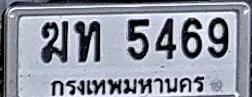4: (155, 17, 176, 59)
5: (127, 18, 149, 60)
6: (181, 17, 202, 58)
9: (208, 17, 228, 58)
A06: (41, 20, 68, 62)
A23: (74, 20, 100, 62)
BKK: (47, 74, 210, 97)
